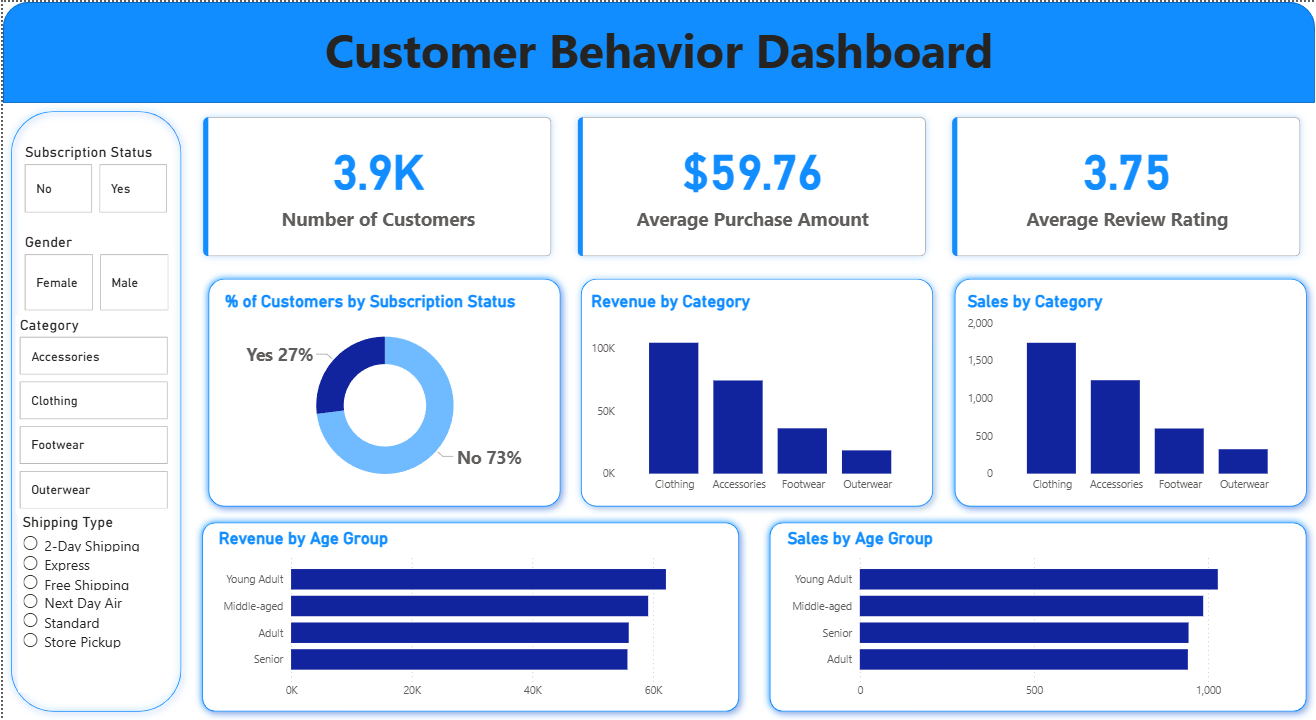

This screenshot's page, from the dashboard's own definition file:
{"tool":"powerbi","page":{"name":"Page 1","canvas":[1500,820],"ordinal":0},"visuals":[{"type":"cardVisual","fields":{"Data":["public customer.Number of Customers","public customer.Average Purchase Amount","public customer.Average Review Rating"]},"box":[212.9,115.3,1286.5,191.6],"z":2000},{"type":"shape","box":[218.3,585.6,631.7,234.2],"z":2500,"group":"g1"},{"type":"shape","box":[0,0,1499.4,115.3],"z":3000},{"type":"textbox","box":[0,12.4,1499.4,102.9],"z":4000},{"type":"shape","box":[225.4,307,420.5,278.6],"z":5000},{"type":"donutChart","title":"% of Customers by Subscription Status","fields":{"Category":["public customer.subscription_status"],"Y":["CountNonNull(public customer.customer_id)"]},"box":[248.4,331.8,376.2,237.8],"z":6000},{"type":"shape","box":[1078.9,307,420.5,278.6],"z":7000},{"type":"shape","box":[652.1,307,420.5,278.6],"z":8000},{"type":"clusteredColumnChart","title":"Revenue by Category","fields":{"Y":["Sum(public customer.purchase_amount)"],"Category":["public customer.category"]},"box":[667.2,331.8,385.1,237.8],"z":9000},{"type":"clusteredColumnChart","title":"Sales by Category","fields":{"Y":["CountNonNull(public customer.customer_id)"],"Category":["public customer.category"]},"box":[1096.6,331.8,385.1,237.8],"z":10000},{"type":"shape","box":[0,115.3,212.9,704.5],"z":11000},{"type":"advancedSlicerVisual","fields":{"Values":["public customer.subscription_status"]},"box":[19.5,161.5,173.9,85.2],"z":12000},{"type":"advancedSlicerVisual","fields":{"Values":["public customer.gender"]},"box":[19.5,264.6,174.1,93.3],"z":13000},{"type":"advancedSlicerVisual","fields":{"Values":["public customer.category"]},"box":[13.9,357.9,179.7,227],"z":14000},{"type":"listSlicer","fields":{"Values":["public customer.shipping_type"]},"box":[16.7,584.9,174.1,204.7],"z":15000},{"type":"shape","box":[867.7,585.6,631.7,234.2],"z":16000},{"type":"clusteredBarChart","title":"Sales by Age Group","fields":{"Y":["CountNonNull(public customer.customer_id)"],"Category":["public customer.age_group"]},"box":[890.8,601.5,585.6,204.1],"z":17000},{"type":"clusteredBarChart","title":"Revenue by Age Group","fields":{"Y":["Sum(public customer.purchase_amount)"],"Category":["public customer.age_group"]},"box":[241.4,601.6,585.6,204.1],"z":17500,"group":"g1"},{"type":"group","id":"g1","title":"Group 1","box":[218.3,585.6,631.7,234.2],"z":17501}]}

Visuals, with their boxes in screenshot pixels (x1, y1, x2, y2), scaled from the page's 1500x820 canvas onto the 1316x720 screenshot:
cardVisual - public customer.Number of Customers x public customer.Average Purchase Amount: [187, 101, 1315, 269]
shape: [192, 514, 746, 719]
shape: [0, 0, 1315, 101]
textbox: [0, 11, 1315, 101]
shape: [198, 270, 567, 514]
"% of Customers by Subscription Status" donutChart: [218, 291, 548, 500]
shape: [947, 270, 1315, 514]
shape: [572, 270, 941, 514]
"Revenue by Category" clusteredColumnChart: [585, 291, 923, 500]
"Sales by Category" clusteredColumnChart: [962, 291, 1300, 500]
shape: [0, 101, 187, 719]
advancedSlicerVisual - public customer.subscription_status: [17, 142, 170, 217]
advancedSlicerVisual - public customer.gender: [17, 232, 170, 314]
advancedSlicerVisual - public customer.category: [12, 314, 170, 514]
listSlicer - public customer.shipping_type: [15, 514, 167, 693]
shape: [761, 514, 1315, 719]
"Sales by Age Group" clusteredBarChart: [782, 528, 1295, 707]
"Revenue by Age Group" clusteredBarChart: [212, 528, 726, 707]
"Group 1" group: [192, 514, 746, 719]
